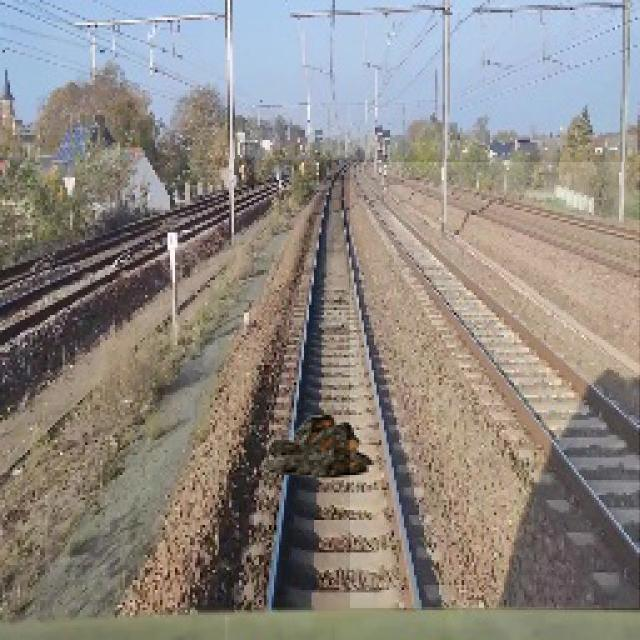rail: (352, 163, 640, 609), (220, 160, 455, 612)
